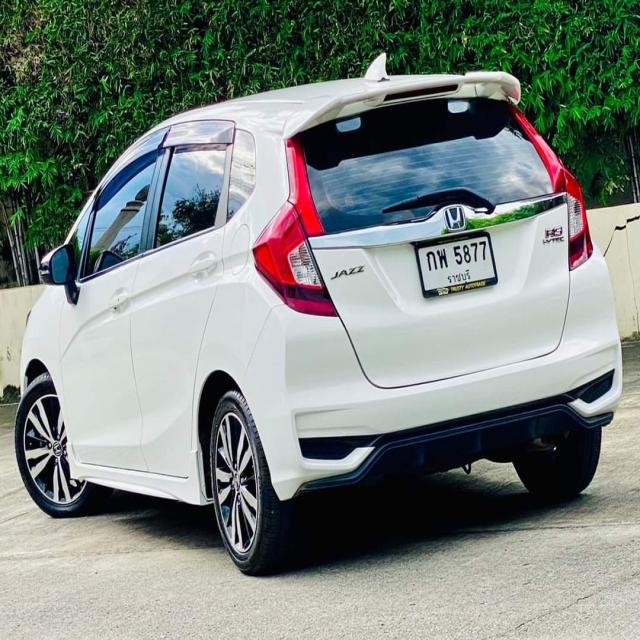license_plate: (414, 230, 500, 299)
